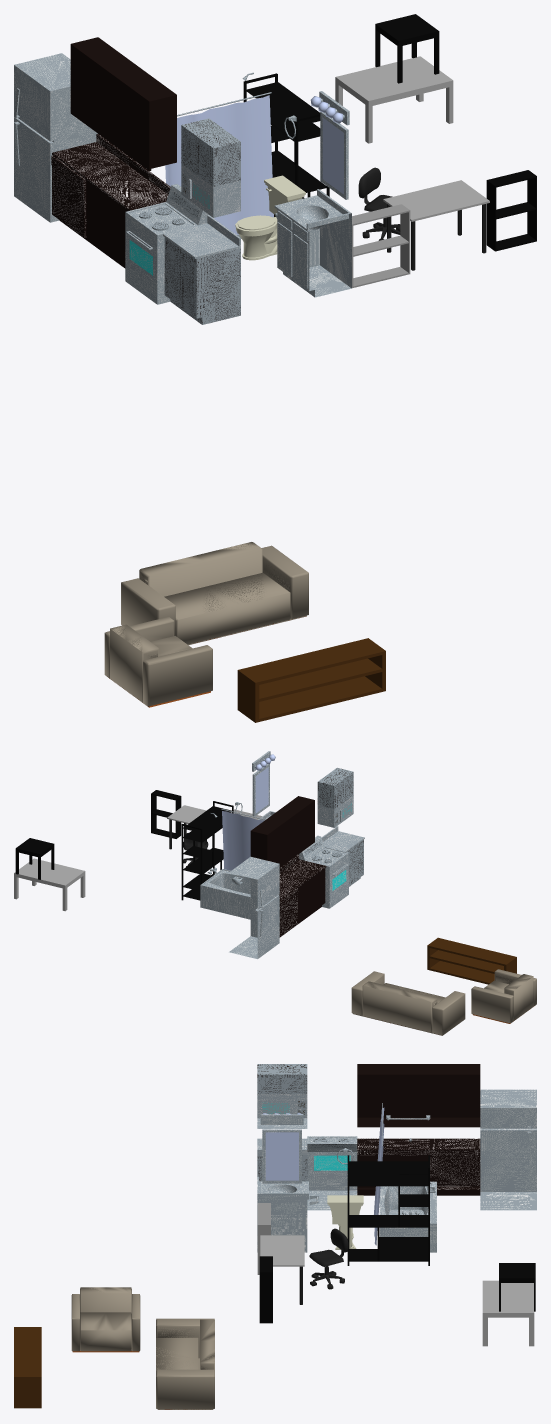
3 views of the same model, one above another, from view 1: azimuth 30°, elevation 25°; view 2: azimuth 150°, elevation 25°; view 3: azimuth 270°, elevation 25° (orthographic). The views are drawn at different scales.
Visible parts, largest first — view 1: SketchUp.359_ID409; view 2: SketchUp.359_ID409; view 3: SketchUp.359_ID409.
Boxes of the visible parts, bbox=[...] form: SketchUp.359_ID409: bbox=[14, 14, 536, 722]; SketchUp.359_ID409: bbox=[14, 751, 536, 1035]; SketchUp.359_ID409: bbox=[14, 1064, 536, 1409].
Bounding box in the file's own units: 7.82 × 5.71 × 7.98.
